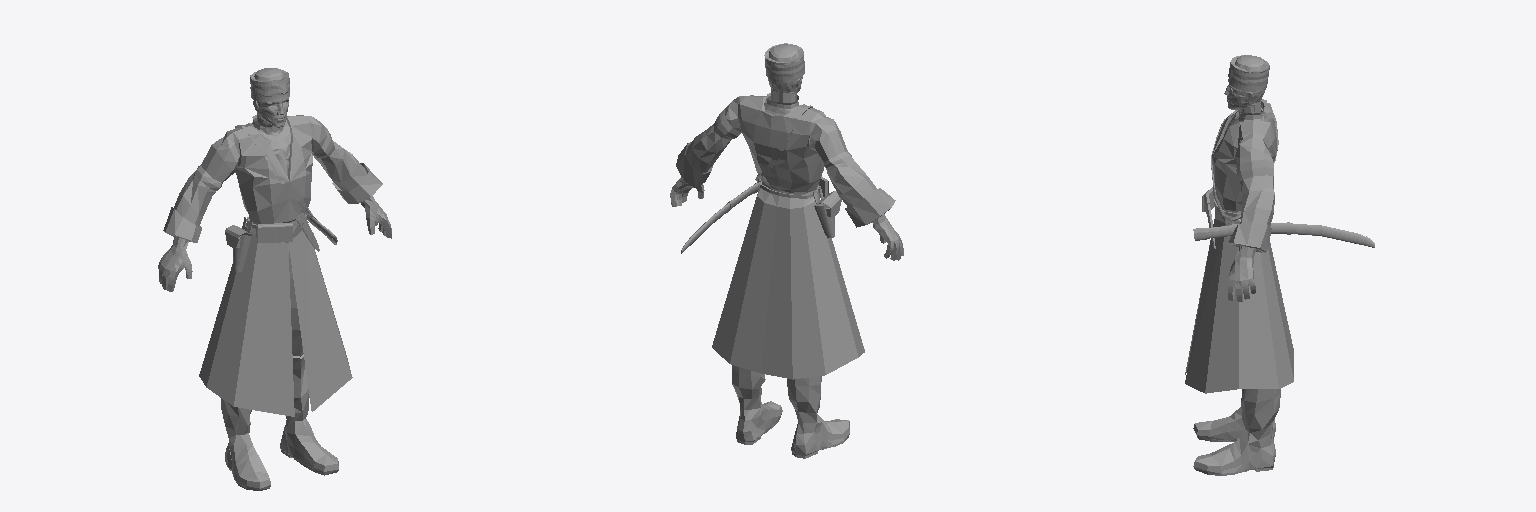
File: CossackFull.obj
3 views of the same model, side by side, from view 1: azimuth 30°, elevation 25°; view 2: azimuth 150°, elevation 25°; view 3: azimuth 270°, elevation 25° (orthographic).
Parts seen in each view (by area): view 1: Cossack_Mesh.003; view 2: Cossack_Mesh.003; view 3: Cossack_Mesh.003.
Boxes of the visible parts, <box> form: Cossack_Mesh.003: <box>158,68,391,490</box>; Cossack_Mesh.003: <box>670,43,903,458</box>; Cossack_Mesh.003: <box>1185,55,1374,475</box>.
Size of the model in its own units: 3.5 by 5.83 by 2.55.